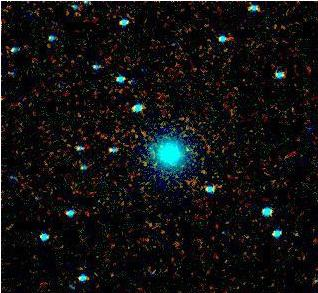star: (183, 135, 213, 165)
